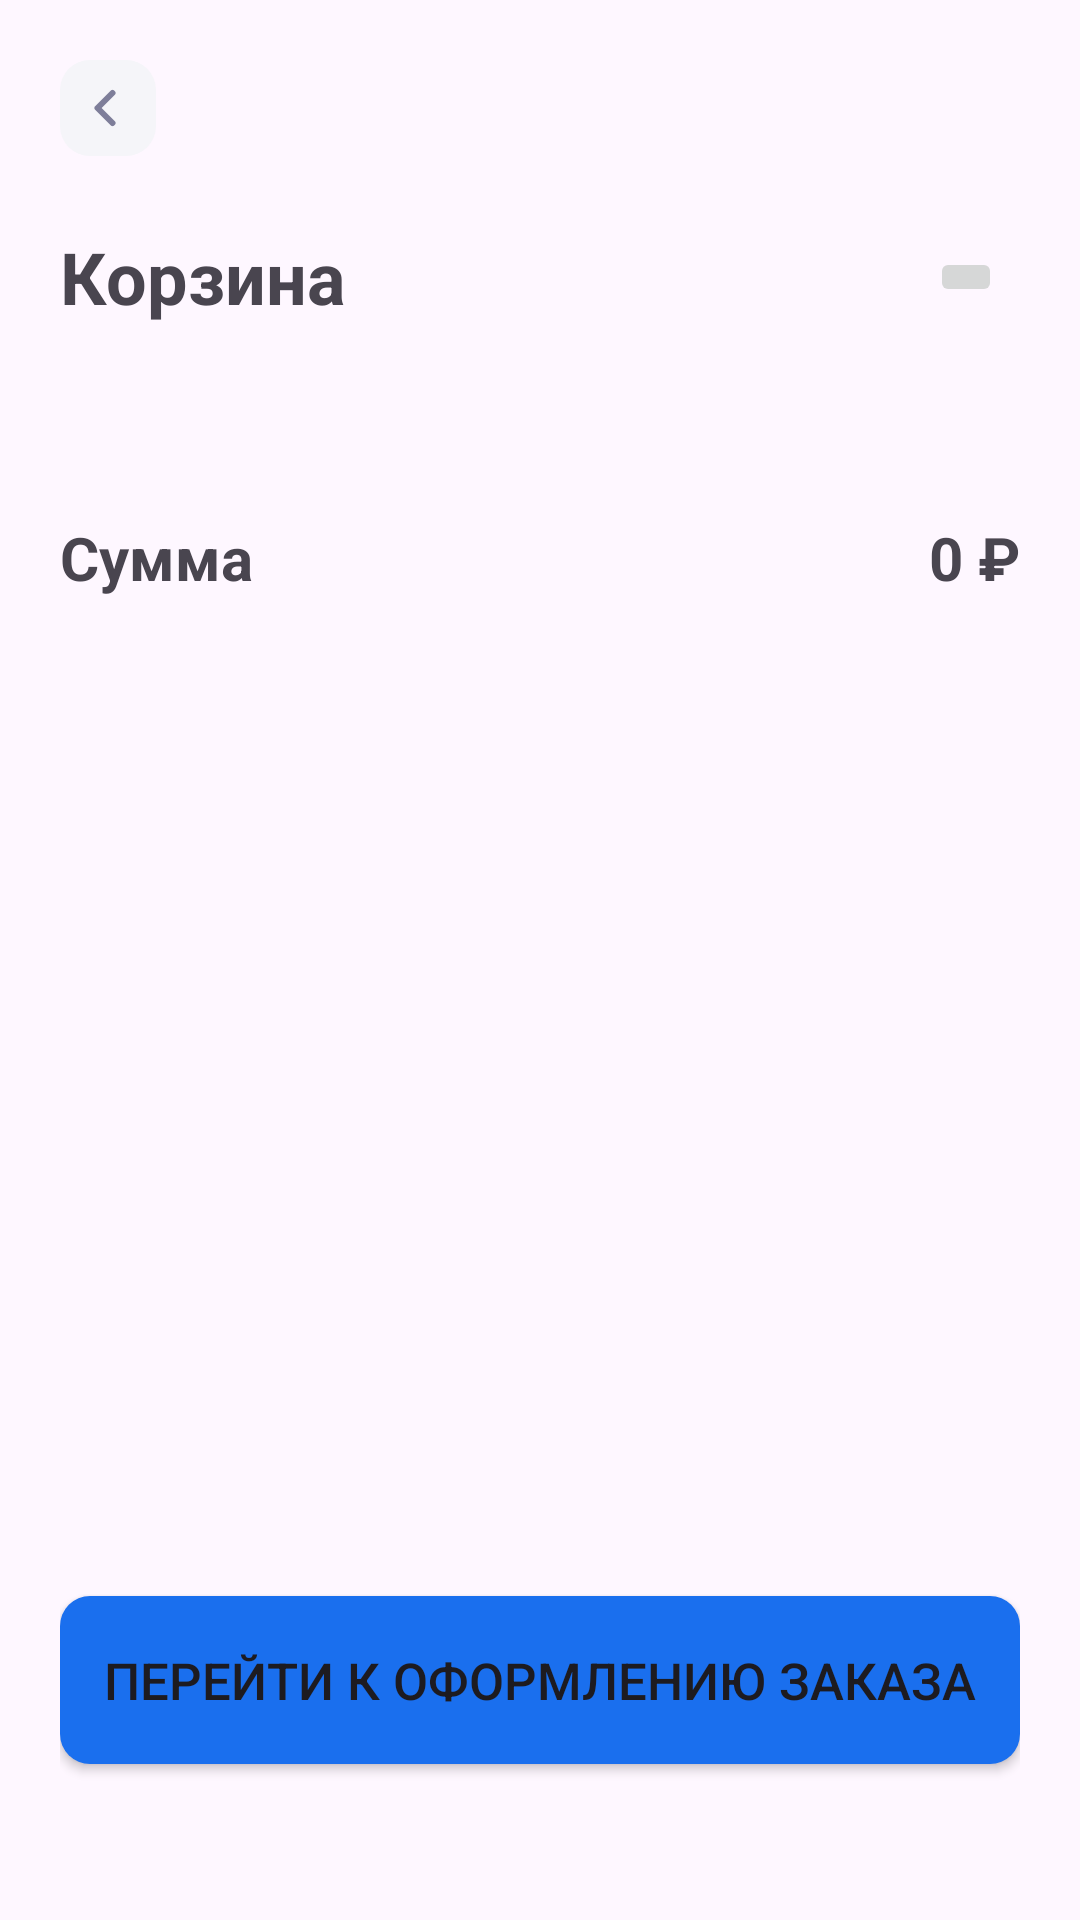

Screen size 1080w x 1920h. Icon name, then its center in pixels as (x,y):
back: (108,108)
